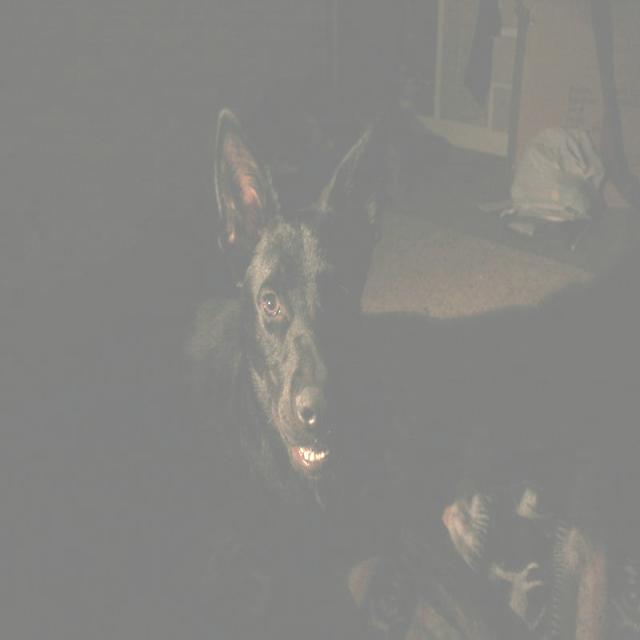Dog: (158, 135, 443, 600)
